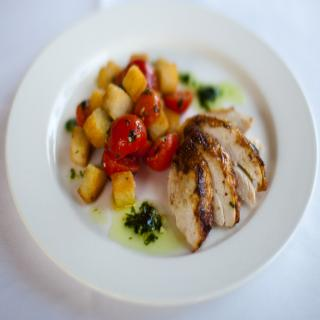tomato: (101, 116, 148, 162), (146, 130, 180, 170), (133, 90, 162, 130), (101, 149, 140, 176), (164, 88, 193, 116)
